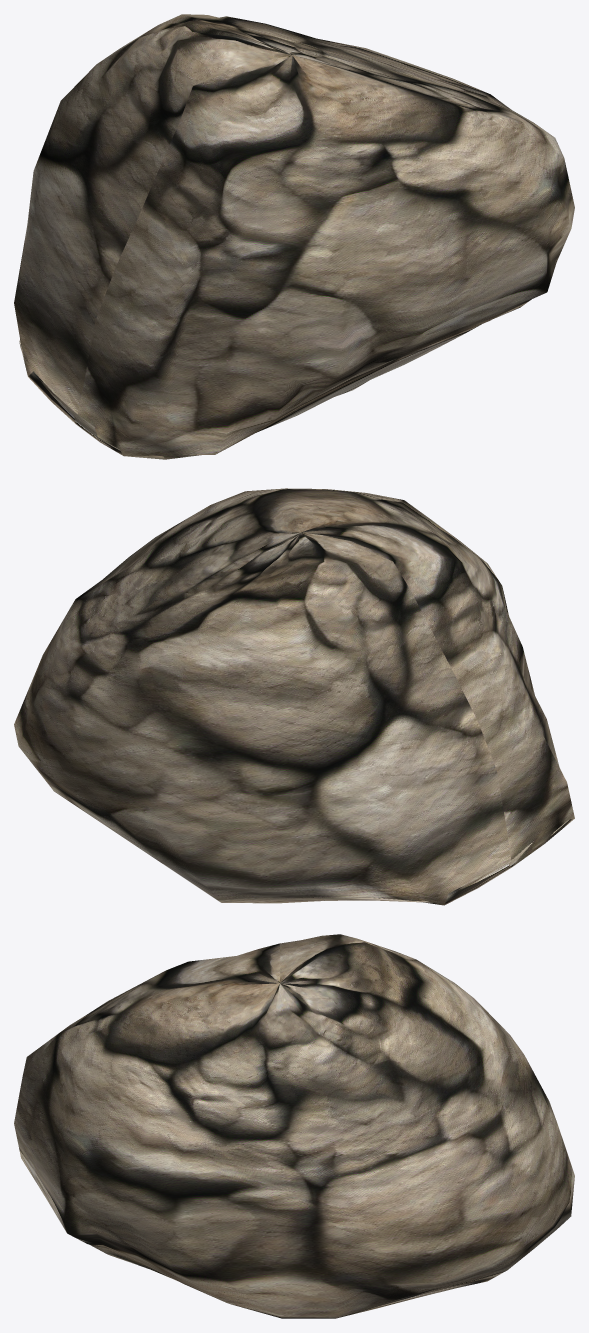
File: rock.glb
3 renders of one model, top to bottom at view 1: azimuth 30°, elevation 25°; view 2: azimuth 150°, elevation 25°; view 3: azimuth 270°, elevation 25°, orthographic. The views are drawn at different scales.
Visible parts, largest first — view 1: Sphere; view 2: Sphere; view 3: Sphere.
Part boxes in pixels (x1,y1,x2,y2): Sphere: (14,14,574,459); Sphere: (14,488,574,905); Sphere: (14,934,574,1318).
Bounding box in the file's own units: 1.67 × 1.12 × 1.83.
1 material, 1 textured.
